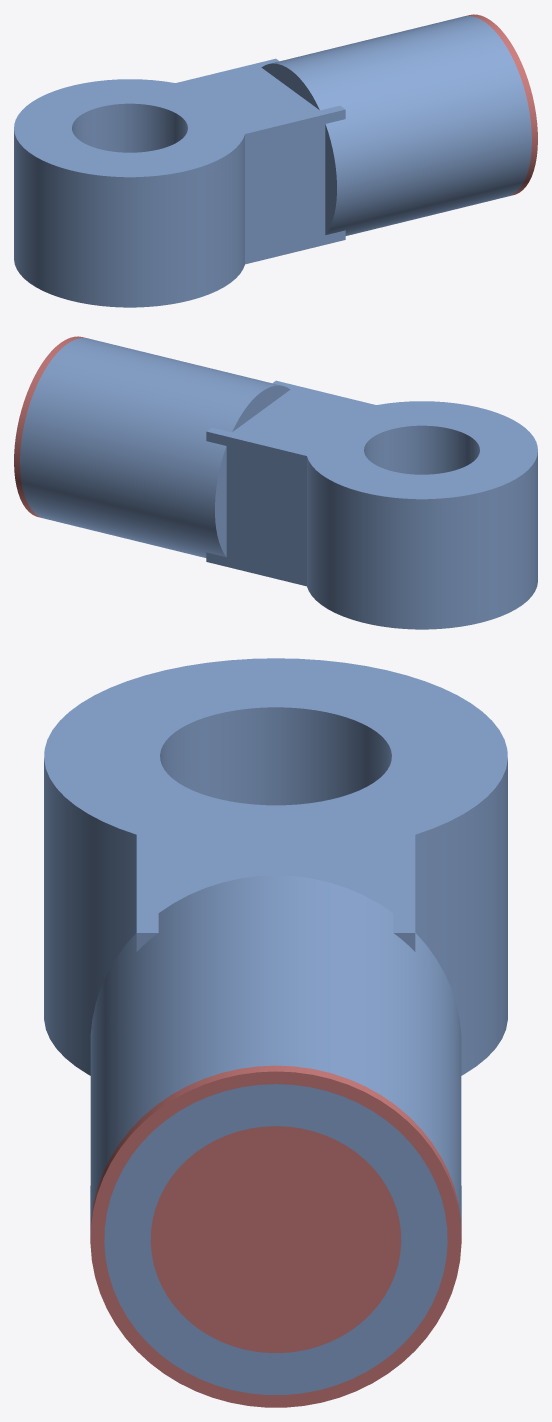
The model's file is step_03.glb.
3 views of the same model, one above another, from view 1: azimuth 30°, elevation 25°; view 2: azimuth 150°, elevation 25°; view 3: azimuth 270°, elevation 25° (orthographic). The views are drawn at different scales.
Visible parts, largest first — view 1: part__eye end, removed__eye end; view 2: part__eye end, removed__eye end; view 3: part__eye end, removed__eye end.
Boxes of the visible parts, box(x1,y1,x2,y2) form: part__eye end: box(14, 16, 531, 307); removed__eye end: box(465, 14, 537, 195); part__eye end: box(20, 338, 537, 629); removed__eye end: box(14, 336, 86, 517); part__eye end: box(44, 658, 507, 1394); removed__eye end: box(90, 1065, 461, 1407).
Bounding box in the file's own units: 115 × 40 × 49.98.
